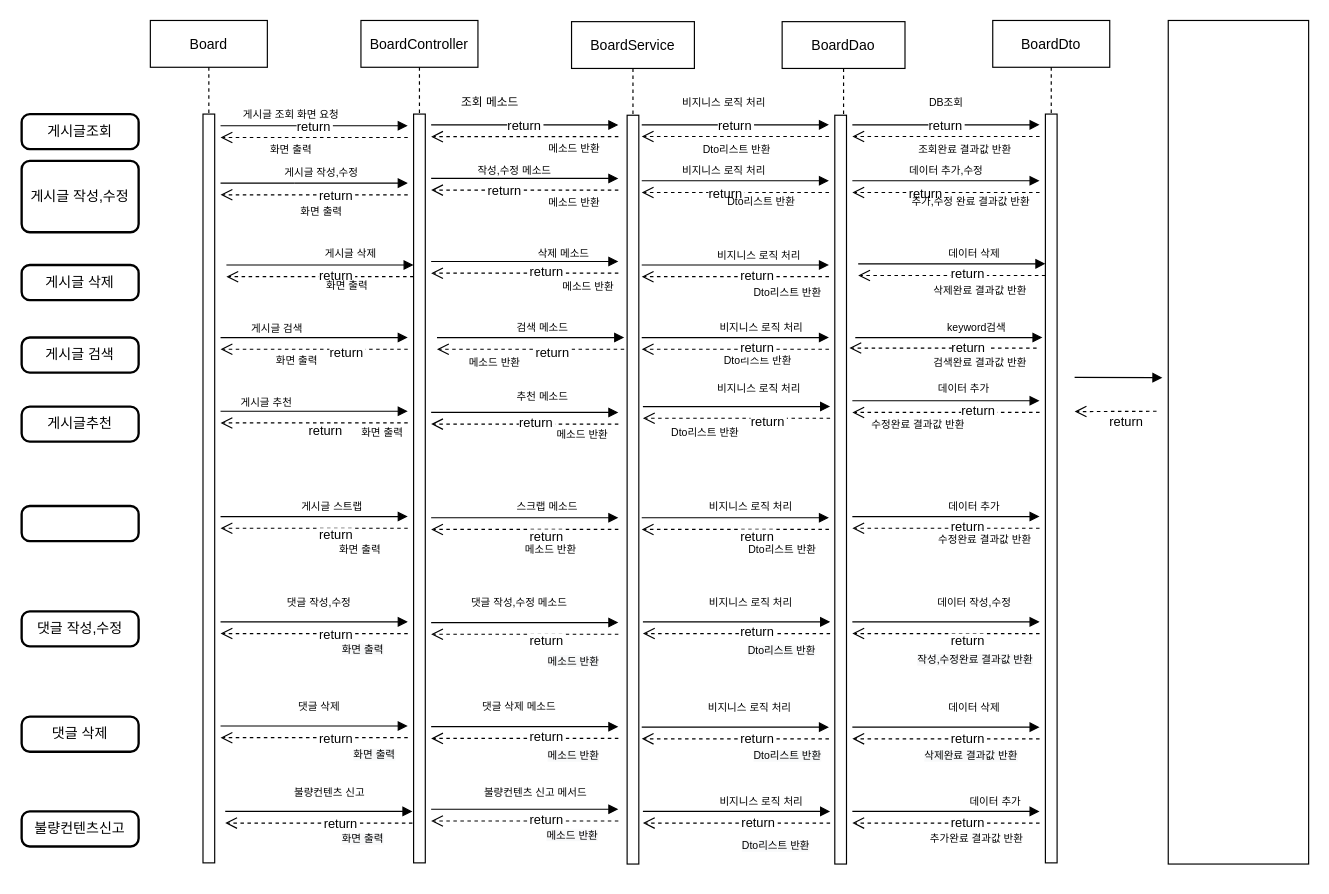
Image size: 1329x894. Some labels were removed from this diagram. Each missing label, with the centre of its shape:
"DB" belongs at (x=1238, y=441).
"게시글스크랩" belongs at (x=79, y=523).
